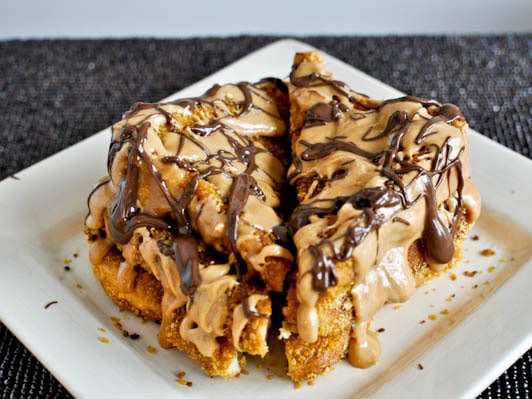sandwich: (52, 50, 497, 396)
